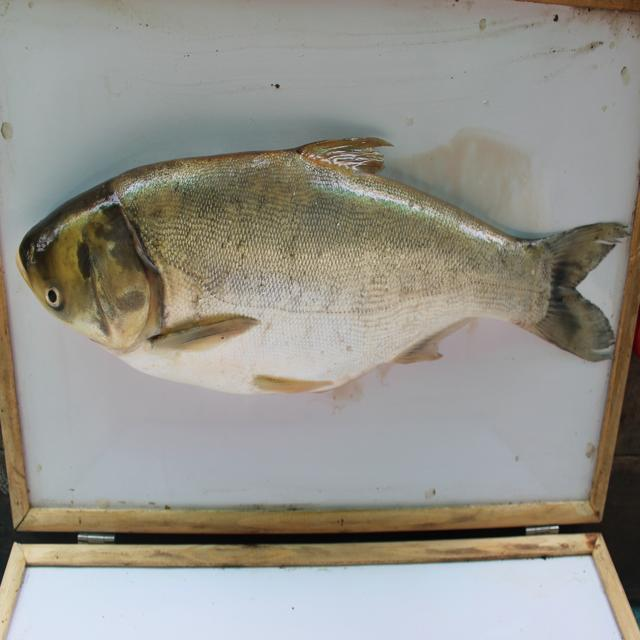SilverCarp: (24, 119, 640, 406)
